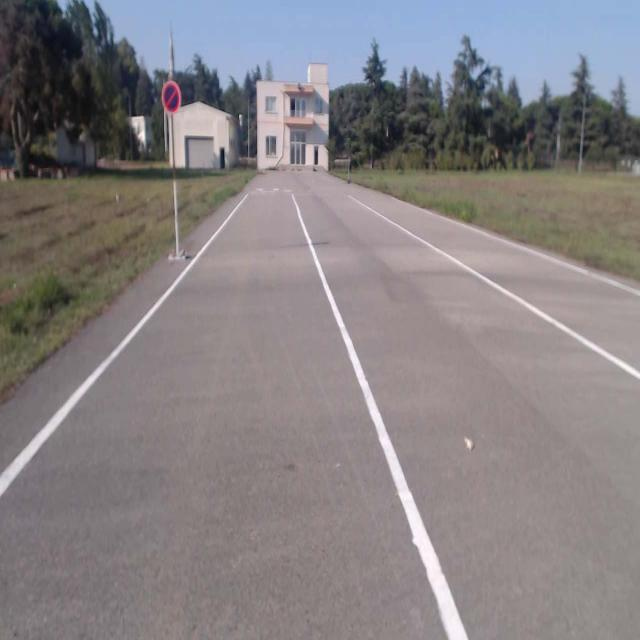parkyasak: (162, 80, 180, 112)
